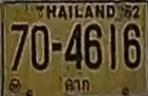0: (31, 25, 48, 69)
1: (109, 23, 115, 69)
4: (64, 23, 81, 68)
6: (84, 23, 101, 68), (123, 23, 140, 68)
7: (10, 24, 28, 70)
TAK: (60, 76, 96, 93)
